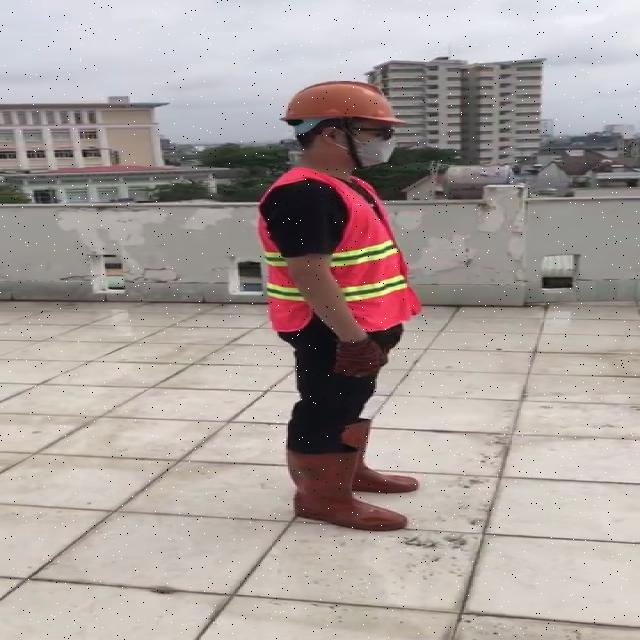Hard_hat: (274, 76, 408, 135)
Vest: (258, 166, 414, 342)
